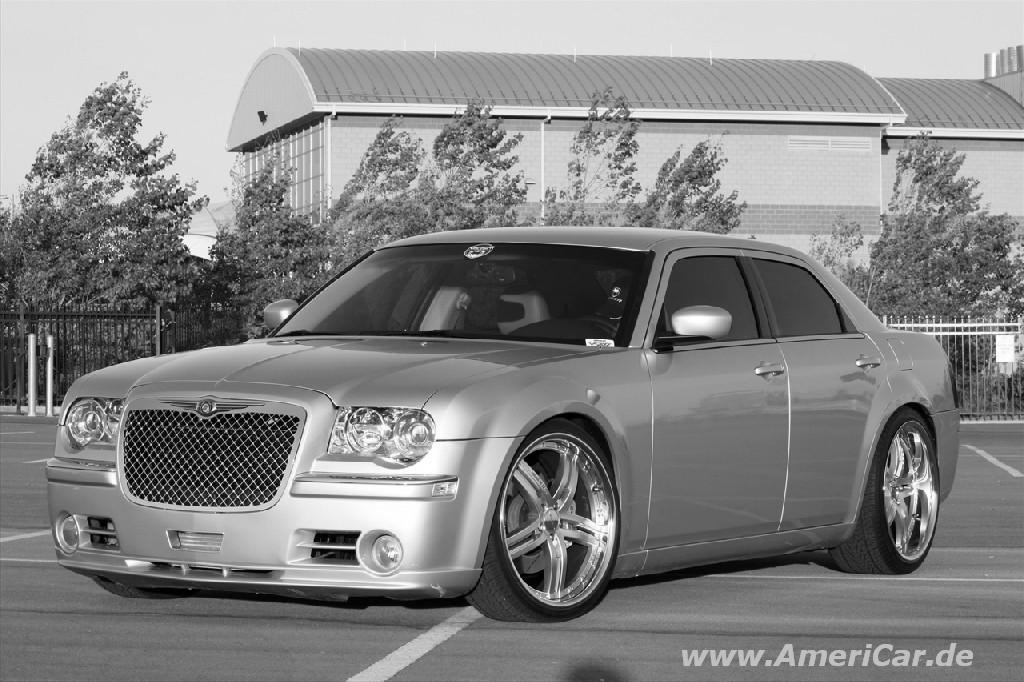car: (45, 226, 963, 628)
